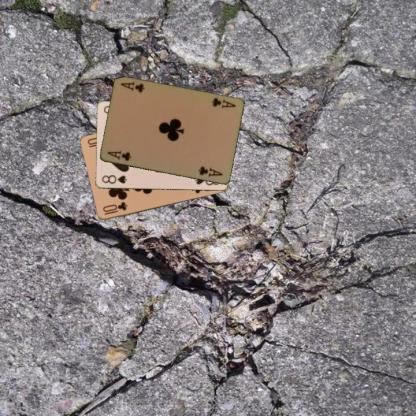10c: (100, 199, 128, 216)
8s: (99, 173, 128, 185)
Ac: (208, 95, 237, 110), (105, 148, 132, 162)
